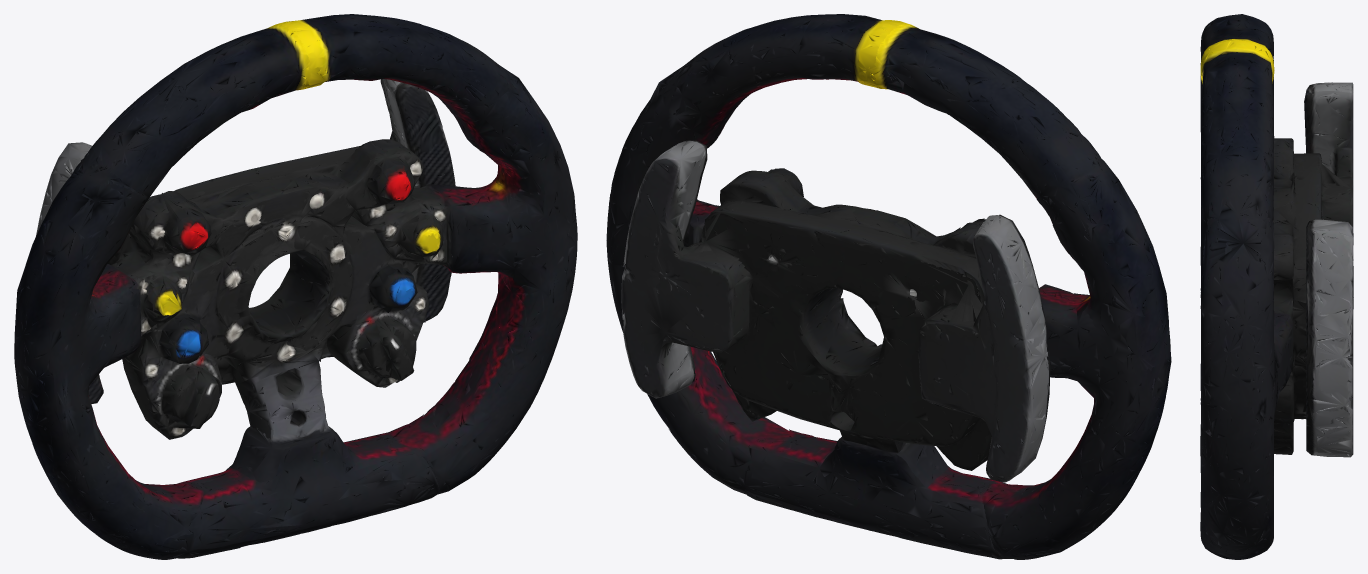
The model's file is volante_pro.glb.
The picture shows the model from 3 angles, left to right: view 1: azimuth 30°, elevation 25°; view 2: azimuth 150°, elevation 25°; view 3: azimuth 270°, elevation 25°; orthographic projection. The views are drawn at different scales.
Parts seen in each view (by area): view 1: geometry_0; view 2: geometry_0; view 3: geometry_0.
Boxes of the visible parts, x1,y1,x2,y2 form: geometry_0: (14,14,577,559); geometry_0: (606,14,1171,559); geometry_0: (1200,14,1353,559).
Size of the model in its own units: 0.36 by 0.3154 by 0.0959.
Materials: 1 (1 with a texture image).
